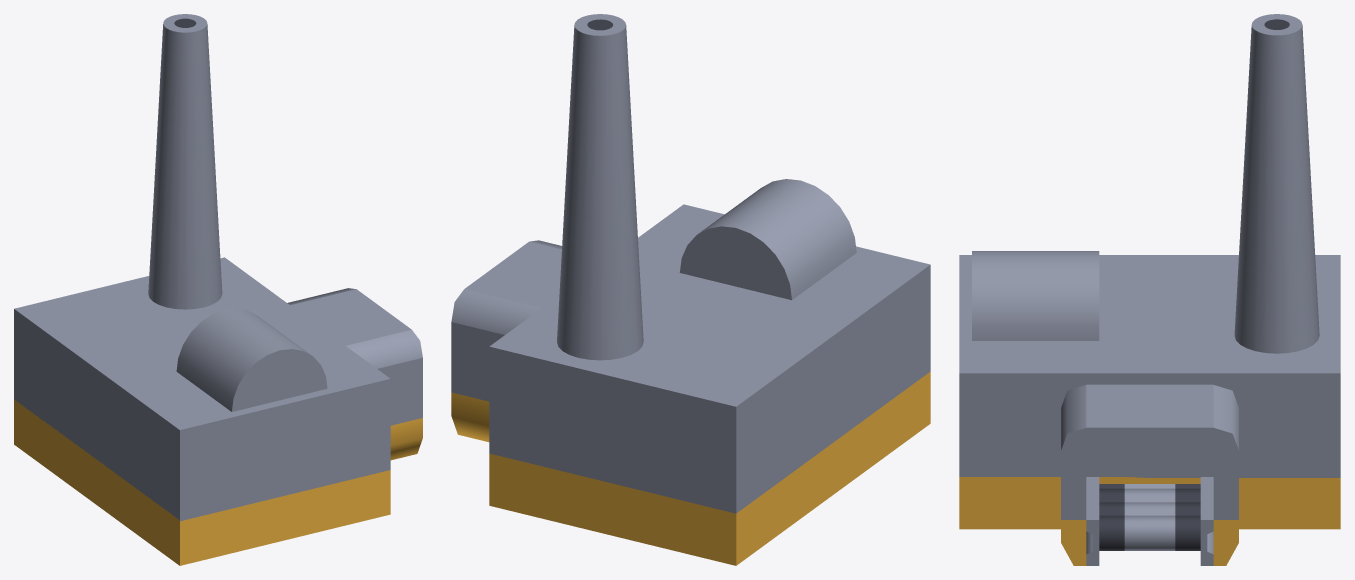
The model's file is Miner.glb.
3 renders of one model, left to right at view 1: azimuth 30°, elevation 25°; view 2: azimuth 150°, elevation 25°; view 3: azimuth 270°, elevation 25°, orthographic. The views are drawn at different scales.
Parts seen in each view (by area): view 1: mergedBlocks(Clone); view 2: mergedBlocks(Clone); view 3: mergedBlocks(Clone).
Part boxes in pixels (x1=…): mergedBlocks(Clone): x1=14, y1=14, x2=422, y2=565; mergedBlocks(Clone): x1=451, y1=14, x2=930, y2=565; mergedBlocks(Clone): x1=959, y1=14, x2=1340, y2=565.
Size of the model in its own units: 3 by 4.05 by 3.
